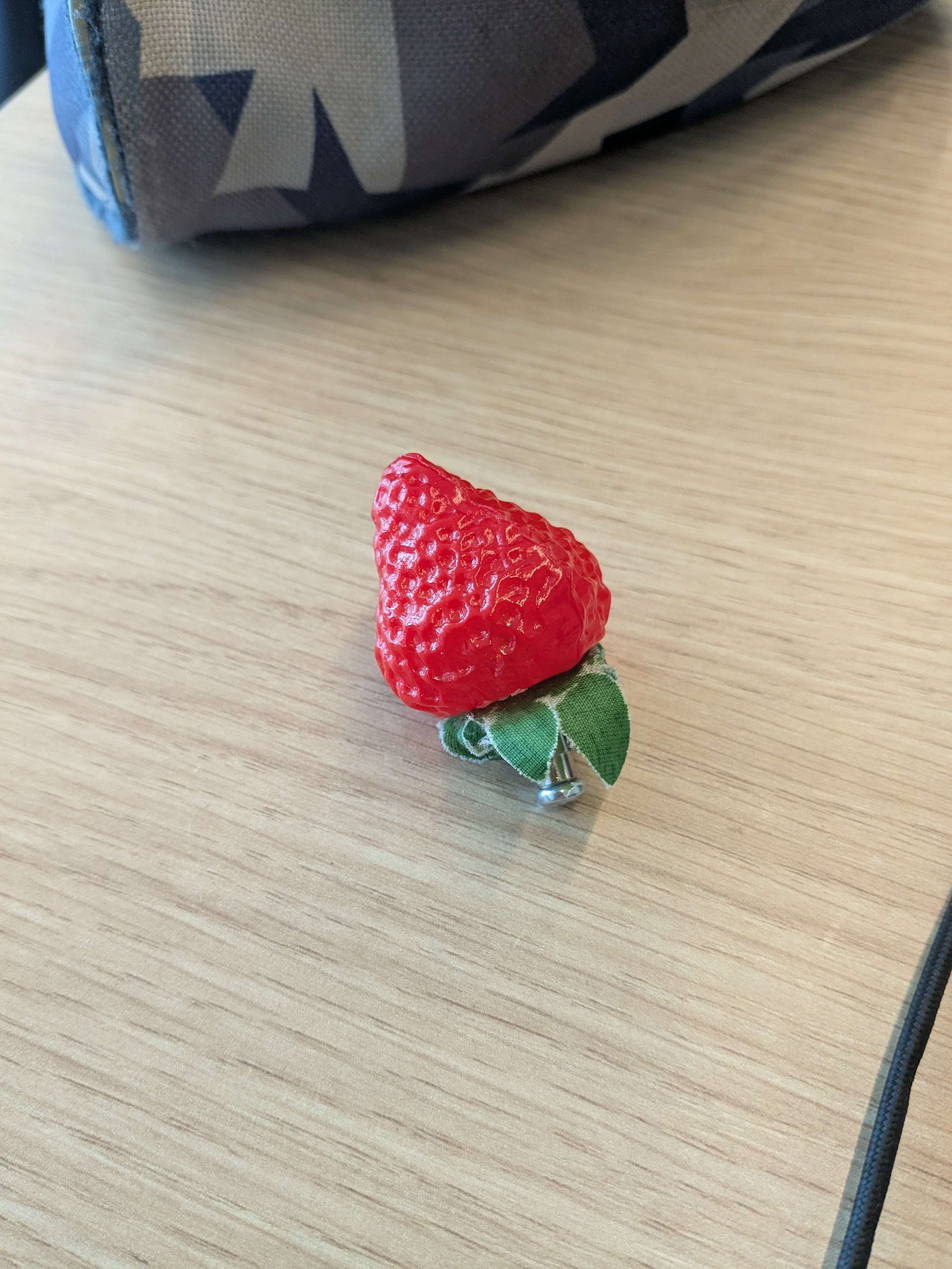Strawberry: (356, 446, 619, 721)
